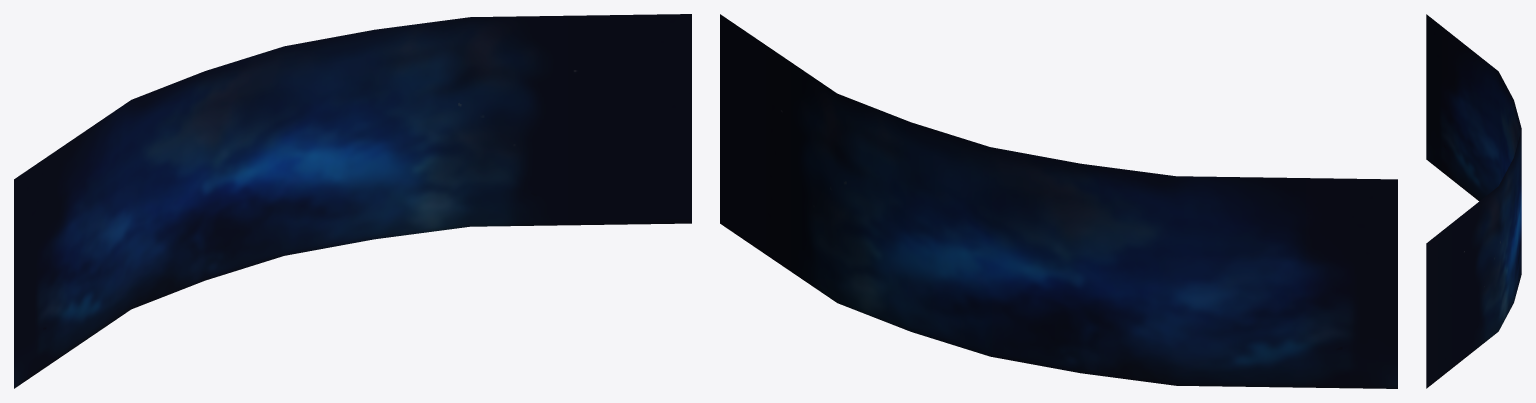
File: wz_qiangbiplane.FBX
The picture shows the model from 3 angles, left to right: view 1: azimuth 30°, elevation 25°; view 2: azimuth 150°, elevation 25°; view 3: azimuth 270°, elevation 25°; orthographic projection. The views are drawn at different scales.
Parts seen in each view (by area): view 1: Object001; view 2: Object001; view 3: Object001.
Boxes of the visible parts, x1=… form: Object001: x1=14, y1=14, x2=691, y2=388; Object001: x1=720, y1=14, x2=1397, y2=388; Object001: x1=1426, y1=14, x2=1521, y2=388.
Bounding box in the file's own units: 19.76 × 5.84 × 3.47.
